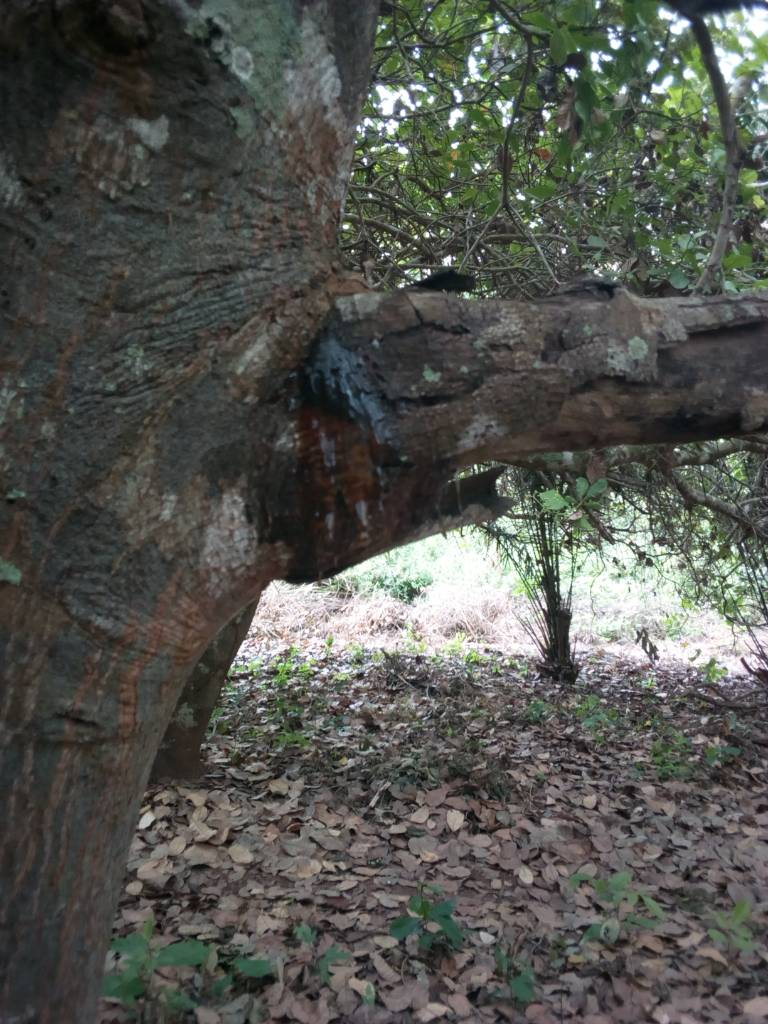Mecocorynus longiceps: (255, 305, 432, 579)
